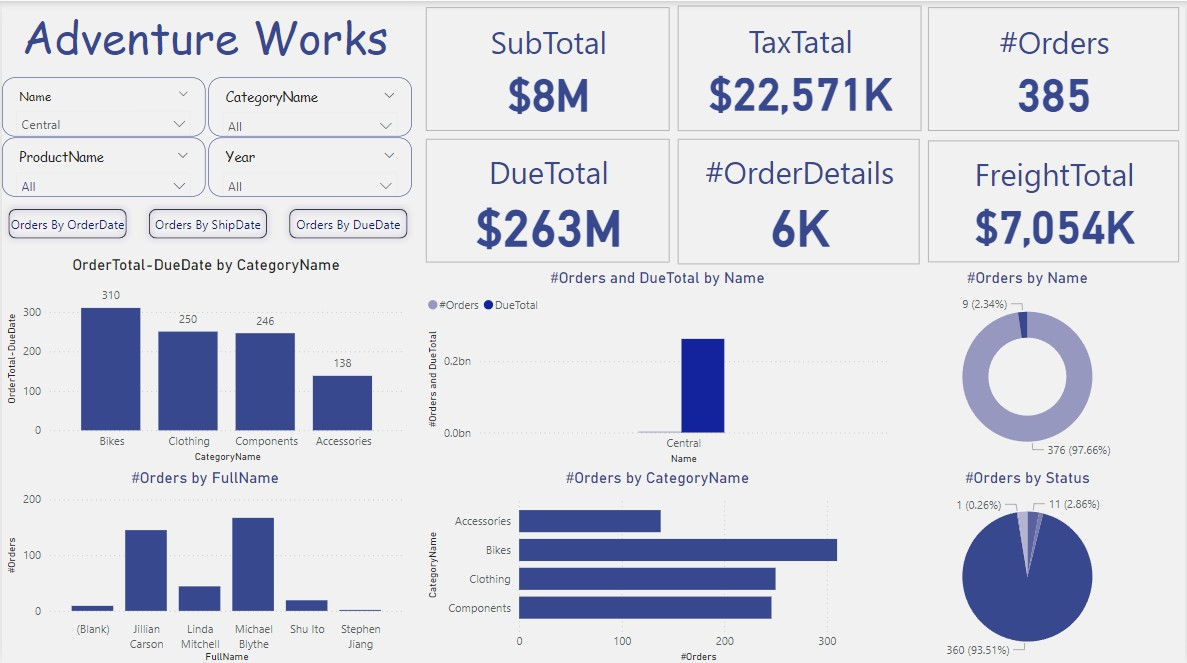

What the dashboard file says about the page in this screenshot:
{"tool":"powerbi","page":{"name":"Main Dash","canvas":[1280,720],"ordinal":0},"visuals":[{"type":"cardVisual","fields":{"Data":["Measures Table.#Orders"]},"box":[998,2,282,144],"z":0},{"type":"cardVisual","fields":{"Data":["Measures Table.#OrderDetails"]},"box":[726,144,272,146],"z":1000},{"type":"cardVisual","fields":{"Data":["Measures Table.SubTotal"]},"box":[454,2,274,144],"z":2000},{"type":"cardVisual","fields":{"Data":["Measures Table.TaxTatal"]},"box":[726,0,274,146],"z":3000},{"type":"cardVisual","fields":{"Data":["Measures Table.FreightTotal"]},"box":[998,146,282,142],"z":4000},{"type":"cardVisual","fields":{"Data":["Measures Table.DueTotal"]},"box":[454,144,274,144],"z":5000},{"type":"columnChart","fields":{"Y":["Measures Table.OrderTotal-ShipDate"],"Category":["DimProduct.CategoryName"]},"box":[0,276,442,228],"z":6000},{"type":"bookmarkNavigator","box":[0,218,446,46],"z":9000},{"type":"donutChart","fields":{"Category":["DimShipMethod.Name"],"Y":["Measures Table.#Orders"]},"box":[942,290,338,214],"z":10000},{"type":"pieChart","fields":{"Category":["VW_Status.Status"],"Y":["Measures Table.#Orders"]},"box":[942,506,338,214],"z":11000},{"type":"barChart","fields":{"Category":["DimProduct.CategoryName Hierarchy.CategoryName","DimProduct.CategoryName Hierarchy.ProductSubcategoryID","DimProduct.CategoryName Hierarchy.ProductName"],"Y":["Measures Table.#Orders"]},"box":[456,506,508,214],"z":12000},{"type":"clusteredColumnChart","fields":{"Y":["Measures Table.#Orders","Measures Table.DueTotal"],"Category":["DimTerritory.Name"]},"box":[456,290,508,216],"z":13000},{"type":"slicer","fields":{"Values":["DimDate.Date.Variation.Date Hierarchy.Year"]},"box":[224,148,220,64],"z":14000},{"type":"slicer","fields":{"Values":["DimProduct.ProductName"]},"box":[0,148,220,64],"z":15000},{"type":"slicer","fields":{"Values":["DimProduct.CategoryName"]},"box":[224,82,220,64],"z":16000},{"type":"slicer","fields":{"Values":["DimTerritory.Name"]},"box":[0,82,220,64],"z":17000},{"type":"columnChart","fields":{"Y":["Measures Table.#Orders"],"Category":["DimSalesPerson.FullName"]},"box":[0,506,440,214],"z":18000},{"type":"textbox","box":[0,0,440,82],"z":20000}]}

Visuals, with their boxes in screenshot pixels (x1, y1, x2, y2), scaled from the page's 1280x720 canvas onto the 1187x663 screenshot:
cardVisual - Measures Table.#Orders: rect(925, 2, 1186, 134)
cardVisual - Measures Table.#OrderDetails: rect(673, 133, 925, 267)
cardVisual - Measures Table.SubTotal: rect(421, 2, 675, 134)
cardVisual - Measures Table.TaxTatal: rect(673, 0, 927, 134)
cardVisual - Measures Table.FreightTotal: rect(925, 134, 1186, 265)
cardVisual - Measures Table.DueTotal: rect(421, 133, 675, 265)
columnChart - Measures Table.OrderTotal-ShipDate x DimProduct.CategoryName: rect(0, 254, 410, 464)
bookmarkNavigator: rect(0, 201, 414, 243)
donutChart - DimShipMethod.Name x Measures Table.#Orders: rect(874, 267, 1186, 464)
pieChart - VW_Status.Status x Measures Table.#Orders: rect(874, 466, 1186, 662)
barChart - DimProduct.CategoryName Hierarchy.CategoryName x DimProduct.CategoryName Hierarchy.ProductSubcategoryID: rect(423, 466, 894, 662)
clusteredColumnChart - Measures Table.#Orders x Measures Table.DueTotal: rect(423, 267, 894, 466)
slicer - DimDate.Date.Variation.Date Hierarchy.Year: rect(208, 136, 412, 195)
slicer - DimProduct.ProductName: rect(0, 136, 204, 195)
slicer - DimProduct.CategoryName: rect(208, 76, 412, 134)
slicer - DimTerritory.Name: rect(0, 76, 204, 134)
columnChart - Measures Table.#Orders x DimSalesPerson.FullName: rect(0, 466, 408, 662)
textbox: rect(0, 0, 408, 76)
